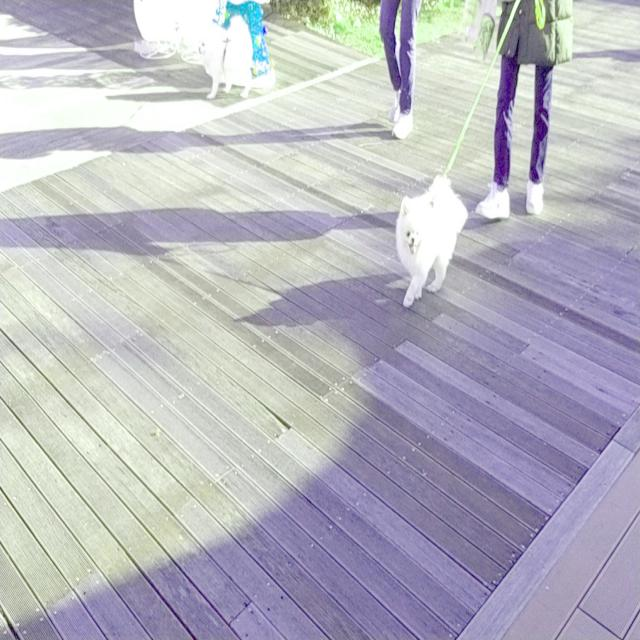Dog: (198, 15, 253, 99)
Leashed_Dog: (396, 0, 553, 306)
